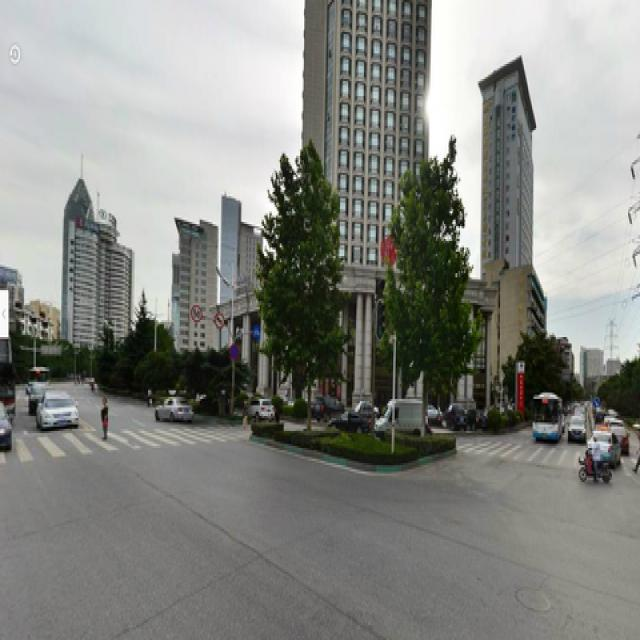meta: (261, 154, 340, 431)
